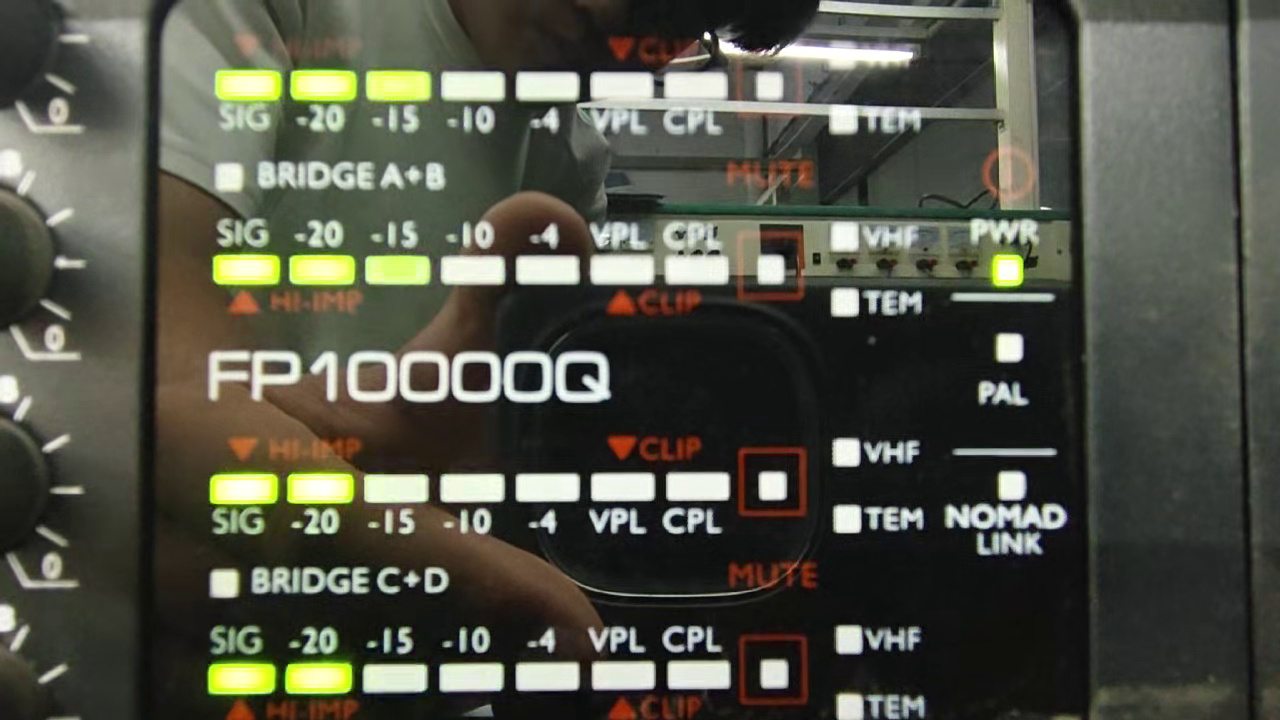FP_CPL: (658, 465, 735, 540), (657, 68, 729, 146), (661, 618, 734, 692)
FP_PWR: (961, 211, 1052, 292)
FP_PWR_area: (955, 143, 1051, 298)
FP_SIG_area: (214, 205, 934, 324), (211, 31, 927, 145), (202, 611, 928, 718), (205, 433, 922, 538)
FP_VPL: (587, 65, 656, 145), (586, 213, 657, 290), (586, 618, 656, 694), (660, 215, 730, 291), (587, 464, 658, 538)
